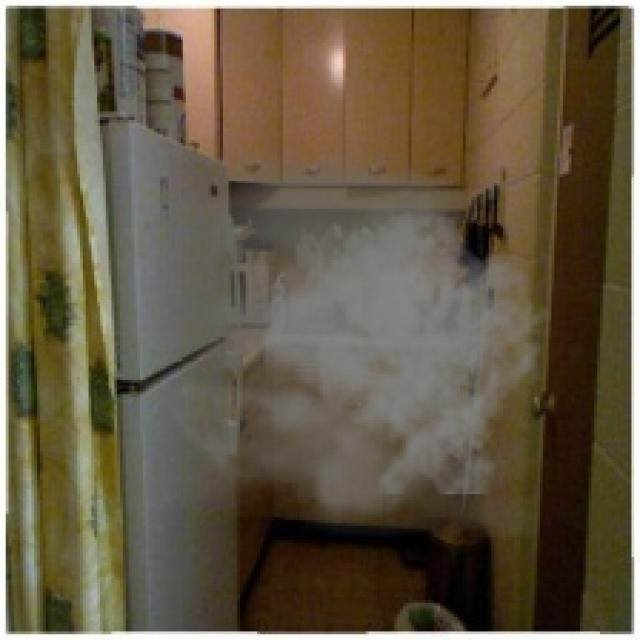smoke: (160, 149, 551, 537)
